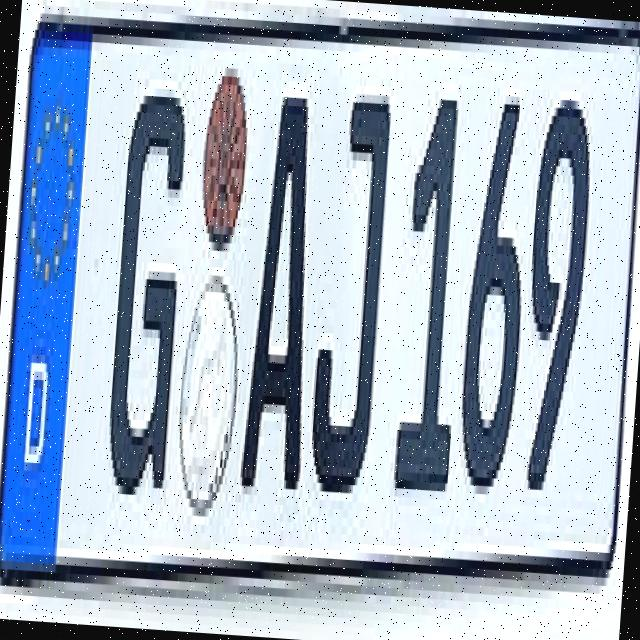Allemagne: (0, 44, 91, 565)
EU: (0, 37, 640, 568)
